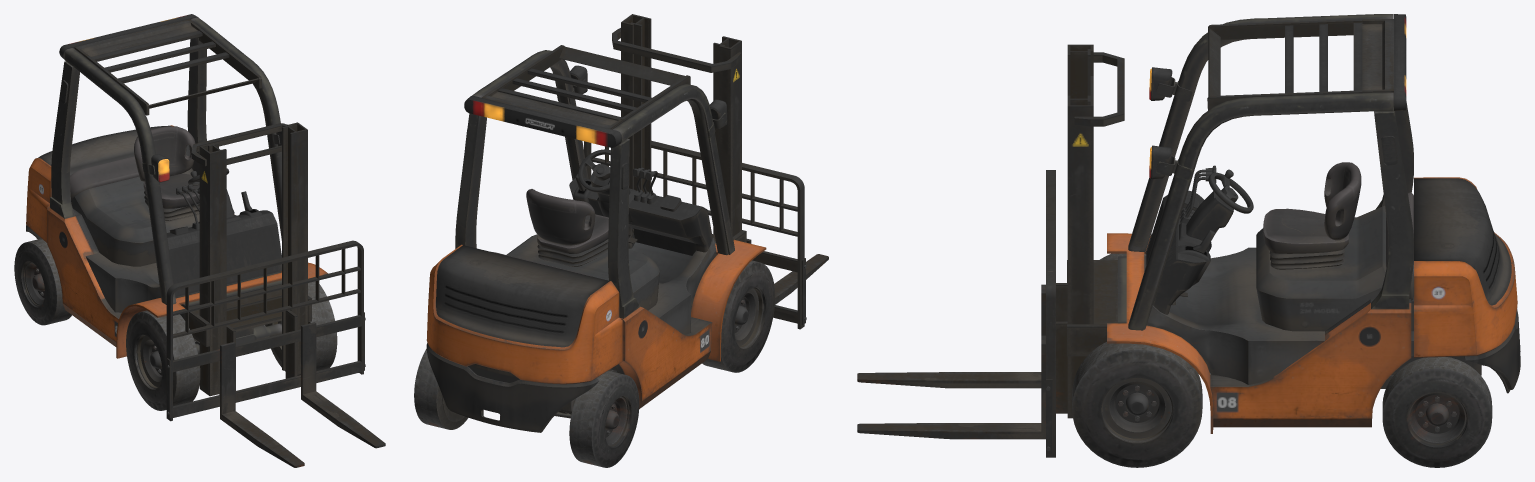
Rendered from SM_Forklift.fbx.
3 views of the same model, side by side, from view 1: azimuth 30°, elevation 25°; view 2: azimuth 150°, elevation 25°; view 3: azimuth 270°, elevation 25° (orthographic). The views are drawn at different scales.
Visible parts, largest first — view 1: SM_Forklift_LOD0; view 2: SM_Forklift_LOD0; view 3: SM_Forklift_LOD0.
Boxes of the visible parts, x1,y1,x2,y2 form: SM_Forklift_LOD0: [14, 14, 385, 467]; SM_Forklift_LOD0: [414, 14, 828, 467]; SM_Forklift_LOD0: [857, 14, 1520, 467].
Size of the model in its own units: 192 by 435 by 263.
